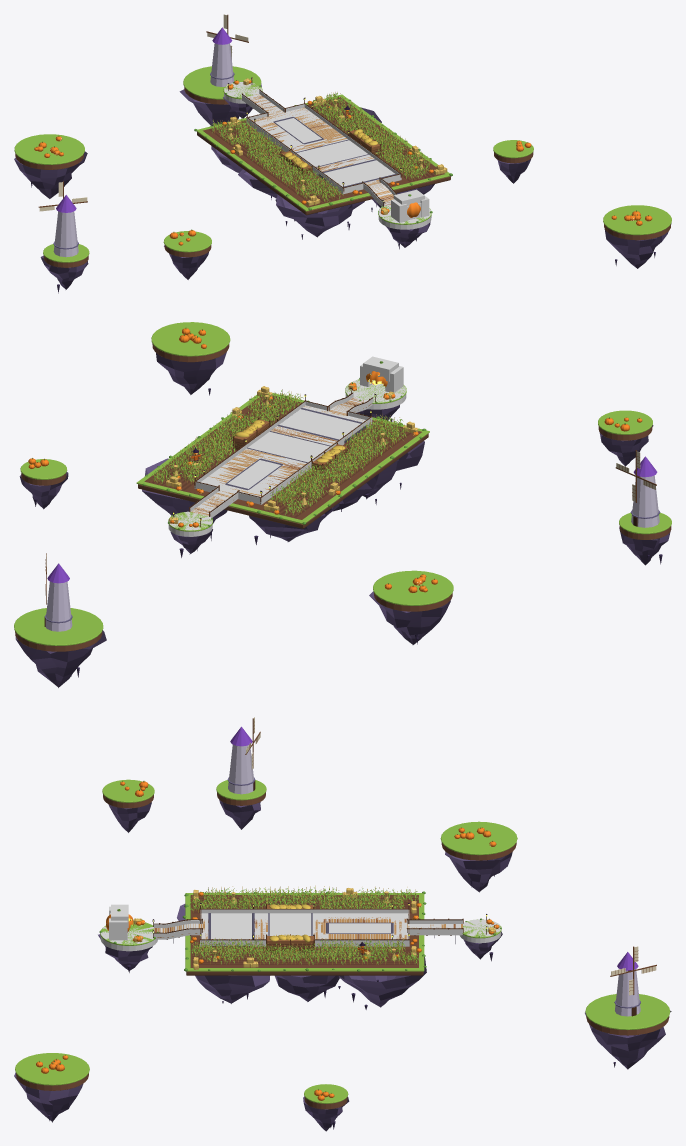
3 renders of one model, top to bottom at view 1: azimuth 30°, elevation 25°; view 2: azimuth 150°, elevation 25°; view 3: azimuth 270°, elevation 25°, orthographic. The views are drawn at different scales.
Visible parts, largest first — view 1: V_grass, V_dirt, V_rock, C_0, V_leaf, V_corn, V_stone_light, V_hay, V_plank, V_pumpkin, C_4, C_3 (+6 smaller); view 2: V_grass, V_rock, V_dirt, C_0, V_leaf, V_corn, V_stone_light, V_hay, V_pumpkin, V_plank, C_3, C_4 (+6 smaller); view 3: V_rock, V_grass, V_dirt, C_0, V_leaf, V_corn, V_stone_light, V_hay, V_pumpkin, V_beam_dark, C_4, V_plank (+4 smaller).
Boxes of the visible parts, x1,y1,x2,y2 form: V_grass: [14, 66, 671, 262]; V_dirt: [15, 87, 670, 267]; V_rock: [14, 84, 671, 289]; C_0: [224, 82, 431, 229]; V_leaf: [209, 93, 432, 201]; V_corn: [213, 93, 430, 202]; V_stone_light: [53, 43, 234, 257]; V_hay: [212, 78, 447, 214]; V_plank: [250, 94, 393, 205]; V_pumpkin: [34, 80, 652, 245]; C_4: [323, 160, 394, 189]; C_3: [296, 140, 367, 166]; V_grass: [14, 322, 671, 645]; V_rock: [15, 352, 670, 687]; V_dirt: [15, 343, 671, 651]; C_0: [168, 379, 406, 536]; V_leaf: [151, 390, 409, 515]; V_corn: [154, 391, 405, 515]; V_stone_light: [45, 475, 659, 631]; V_hay: [154, 382, 418, 523]; V_pumpkin: [28, 328, 642, 592]; V_plank: [191, 398, 371, 515]; C_3: [248, 431, 329, 462]; C_4: [279, 409, 360, 439]; V_rock: [14, 800, 671, 1131]; V_grass: [15, 779, 670, 1103]; V_dirt: [16, 792, 669, 1109]; C_0: [100, 909, 501, 951]; V_leaf: [189, 887, 419, 965]; V_corn: [192, 886, 416, 964]; V_stone_light: [228, 744, 640, 1016]; V_hay: [134, 885, 495, 969]; V_pumpkin: [36, 781, 499, 1100]; V_beam_dark: [153, 781, 636, 1016]; C_4: [211, 913, 252, 945]; V_plank: [154, 917, 462, 939].
Size of the model in its own units: 128 by 37.16 by 126.
